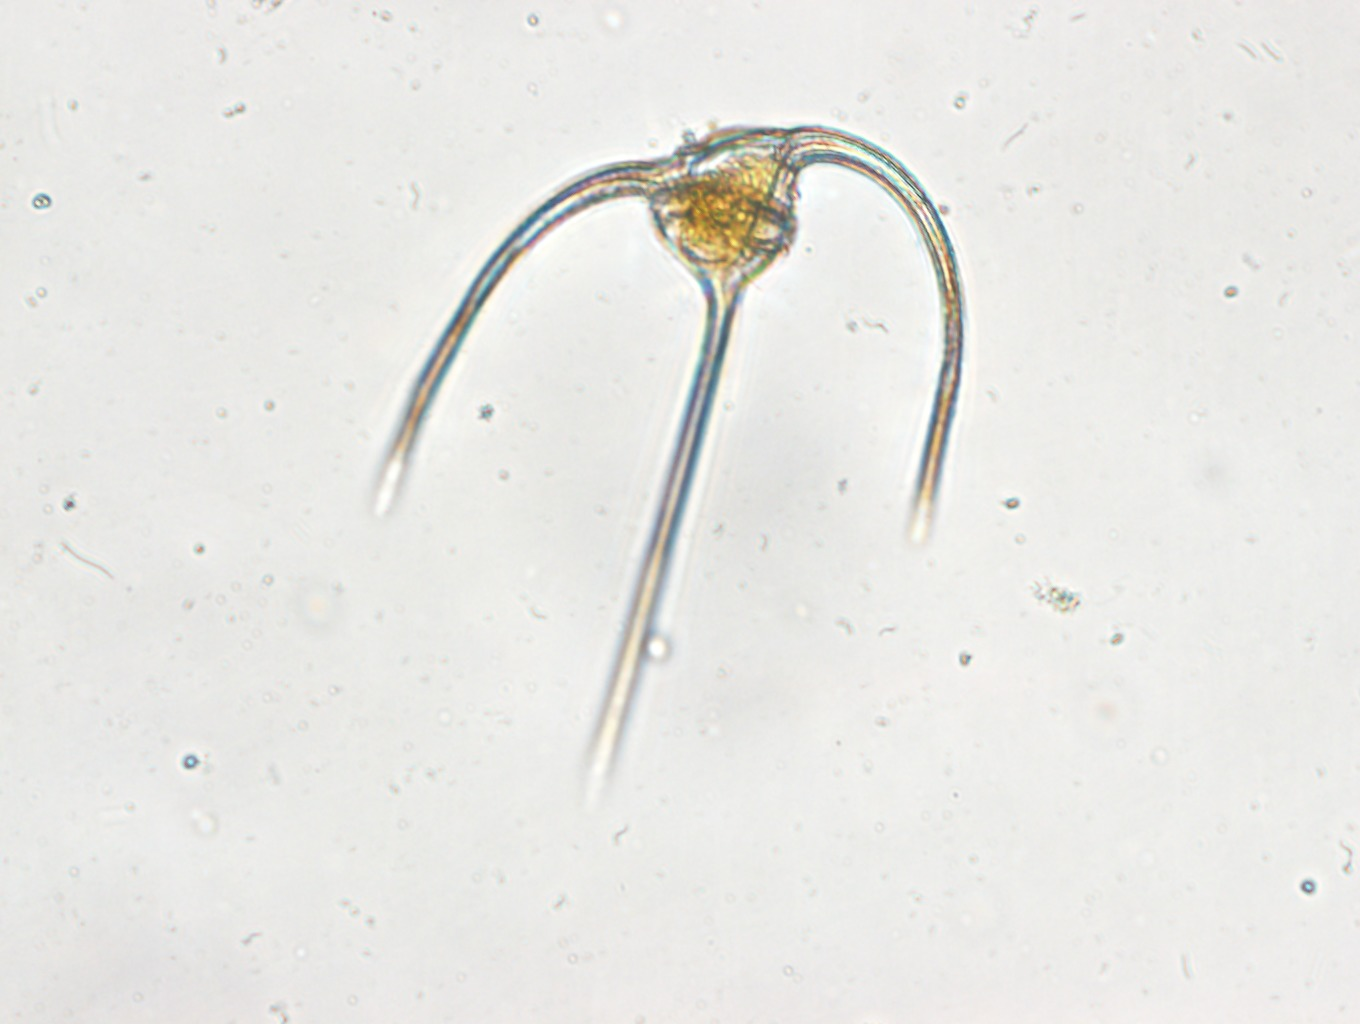ceratium trichoceros: (369, 120, 972, 790)
